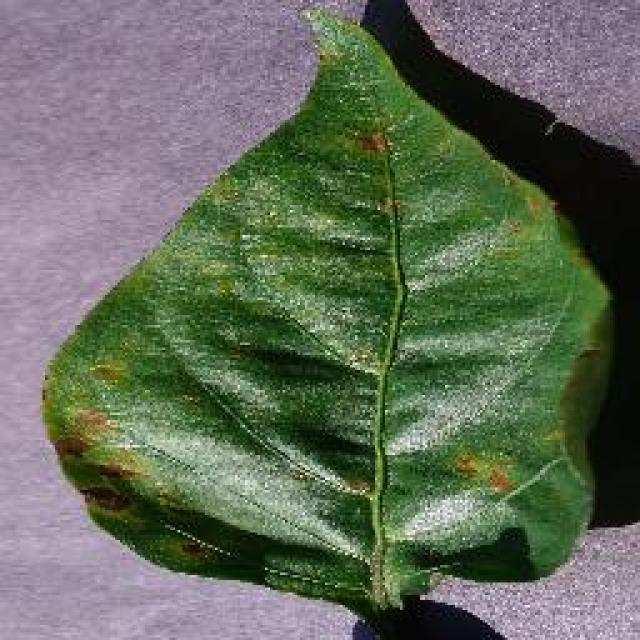Chilli_Bacterial_Spot: (38, 3, 620, 625), (445, 445, 520, 497), (78, 480, 132, 518), (93, 455, 145, 485), (72, 402, 110, 438), (88, 355, 128, 387), (350, 125, 390, 157), (50, 430, 90, 462), (483, 460, 515, 495), (337, 472, 375, 500), (450, 448, 480, 480), (370, 190, 402, 220), (175, 535, 207, 563), (342, 342, 372, 370)
